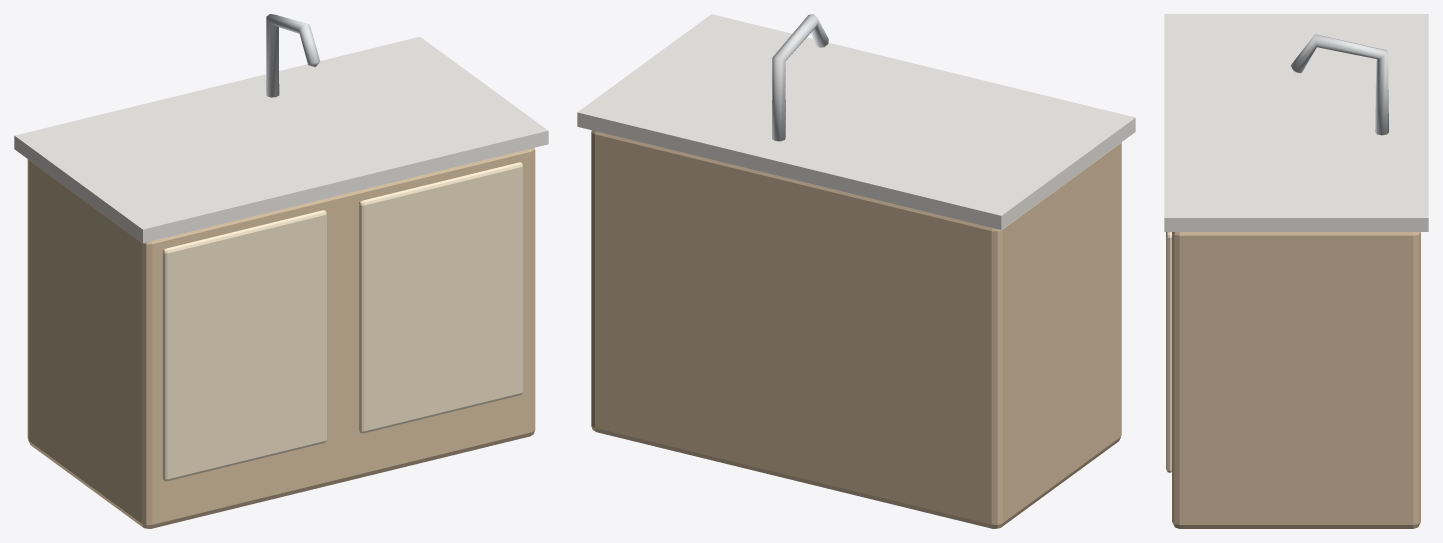
The model's file is pia_cozinha.glb.
The picture shows the model from 3 angles, left to right: view 1: azimuth 30°, elevation 25°; view 2: azimuth 150°, elevation 25°; view 3: azimuth 270°, elevation 25°; orthographic projection. The views are drawn at different scales.
Visible parts, largest first — view 1: pia_cozinha; view 2: pia_cozinha; view 3: pia_cozinha.
Boxes of the visible parts, x1=… form: pia_cozinha: x1=14, y1=14, x2=548, y2=528; pia_cozinha: x1=577, y1=14, x2=1135, y2=528; pia_cozinha: x1=1164, y1=14, x2=1428, y2=528.
Size of the model in its own units: 1.24 by 1.18 by 0.68.
